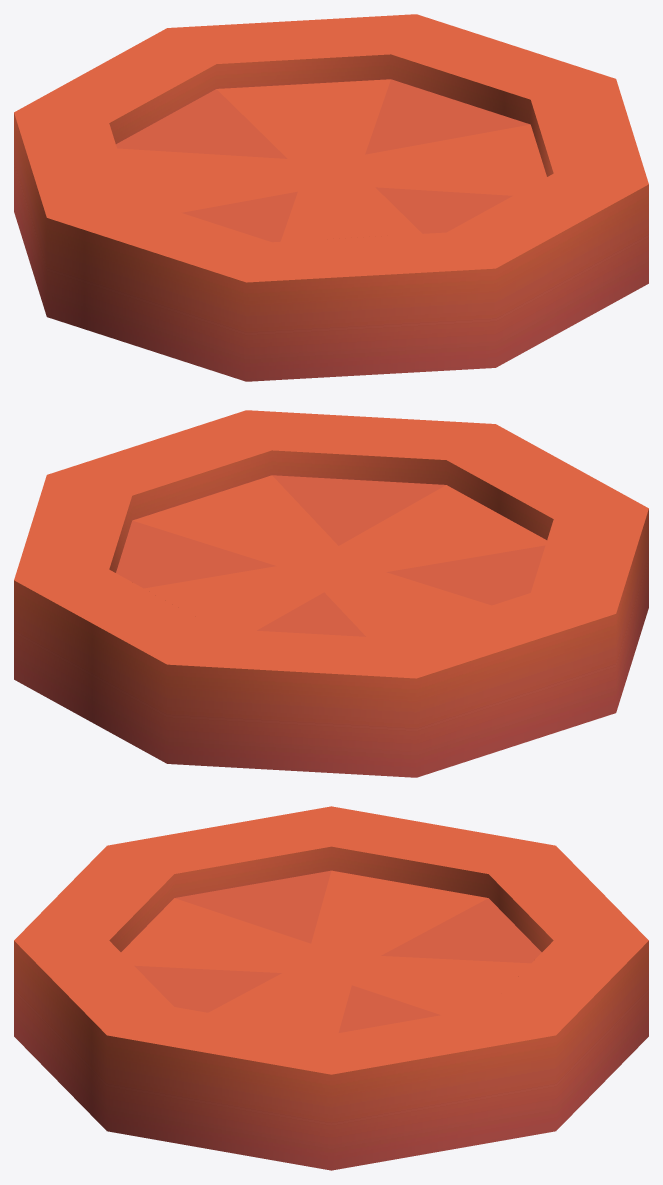
The model's file is tomato-slice.glb.
3 views of the same model, one above another, from view 1: azimuth 30°, elevation 25°; view 2: azimuth 150°, elevation 25°; view 3: azimuth 270°, elevation 25° (orthographic). The views are drawn at different scales.
Visible parts, largest first — view 1: tomato-slice; view 2: tomato-slice; view 3: tomato-slice.
Part boxes in pixels (x1,y1,x2,y2): tomato-slice: (14,14,648,381); tomato-slice: (14,410,648,777); tomato-slice: (14,806,648,1170).
Size of the model in its own units: 0.18 by 0.03 by 0.18.
Materials: 1 (1 with a texture image).
